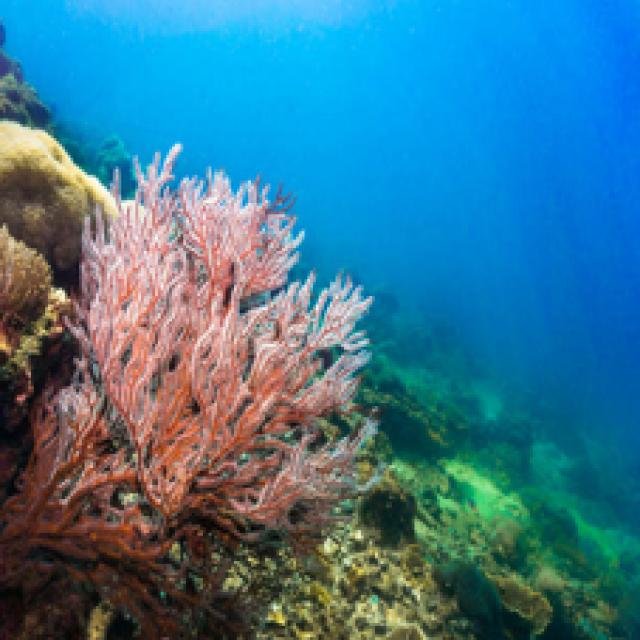Healthy: (4, 145, 373, 633)
